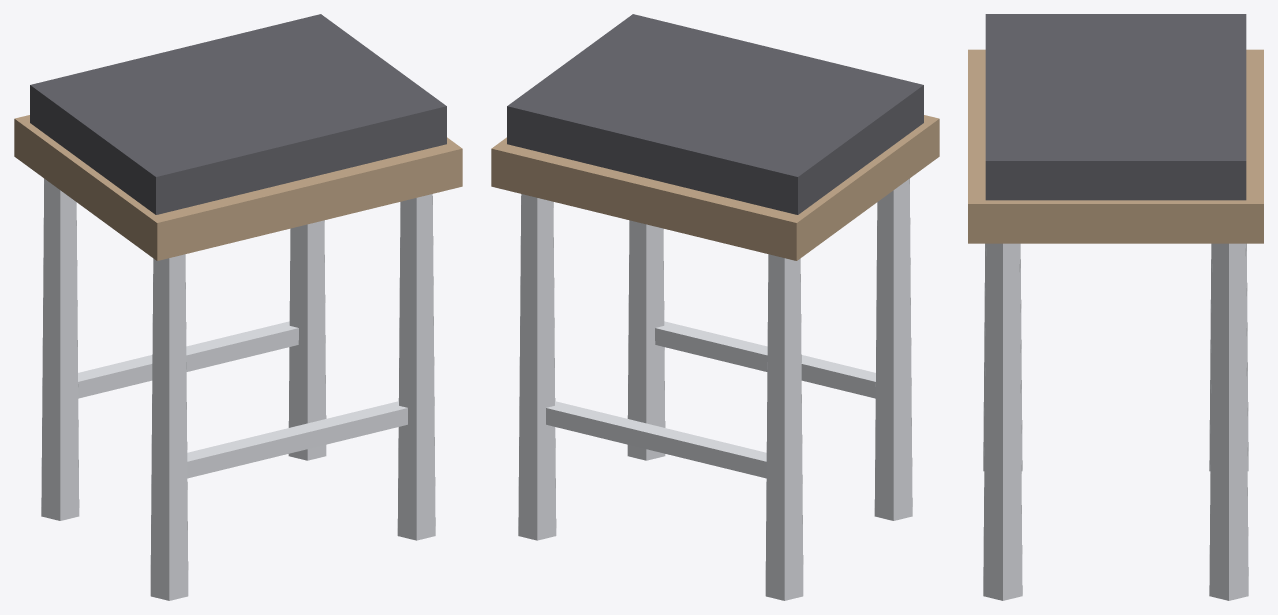
Rendered from corner_stool.glb.
3 views of the same model, side by side, from view 1: azimuth 30°, elevation 25°; view 2: azimuth 150°, elevation 25°; view 3: azimuth 270°, elevation 25° (orthographic). The views are drawn at different scales.
Visible parts, largest first — view 1: corner-stool; view 2: corner-stool; view 3: corner-stool.
Boxes of the visible parts, x1=… form: corner-stool: x1=14, y1=14, x2=462, y2=600; corner-stool: x1=491, y1=14, x2=939, y2=600; corner-stool: x1=968, y1=14, x2=1263, y2=600.
Bounding box in the file's own units: 0.42 × 0.56 × 0.34.
